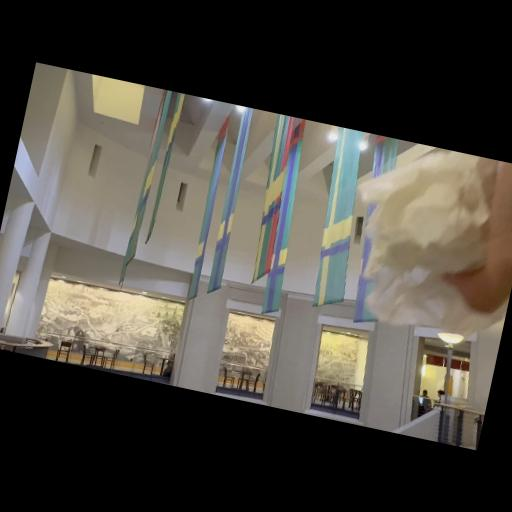napkin: (330, 132, 512, 344)
